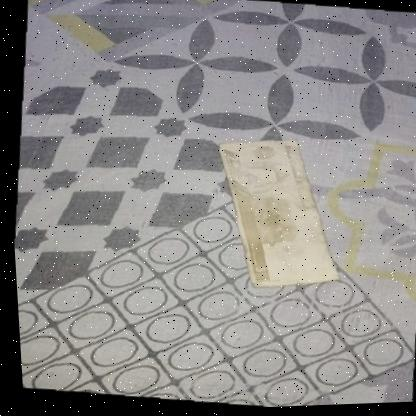five-back-vef: (204, 133, 349, 298)
